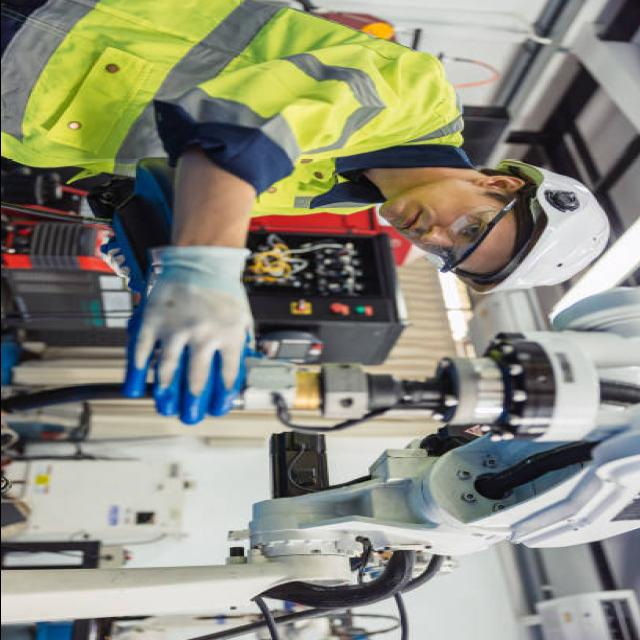Robotic-arm: (278, 289, 640, 602)
